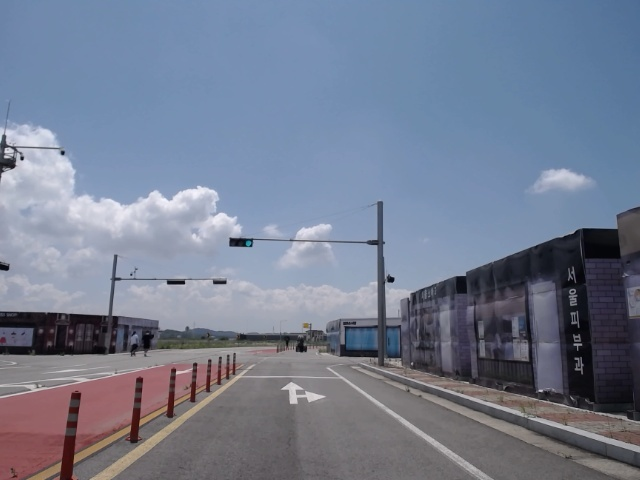green_3: (229, 237, 253, 246)
